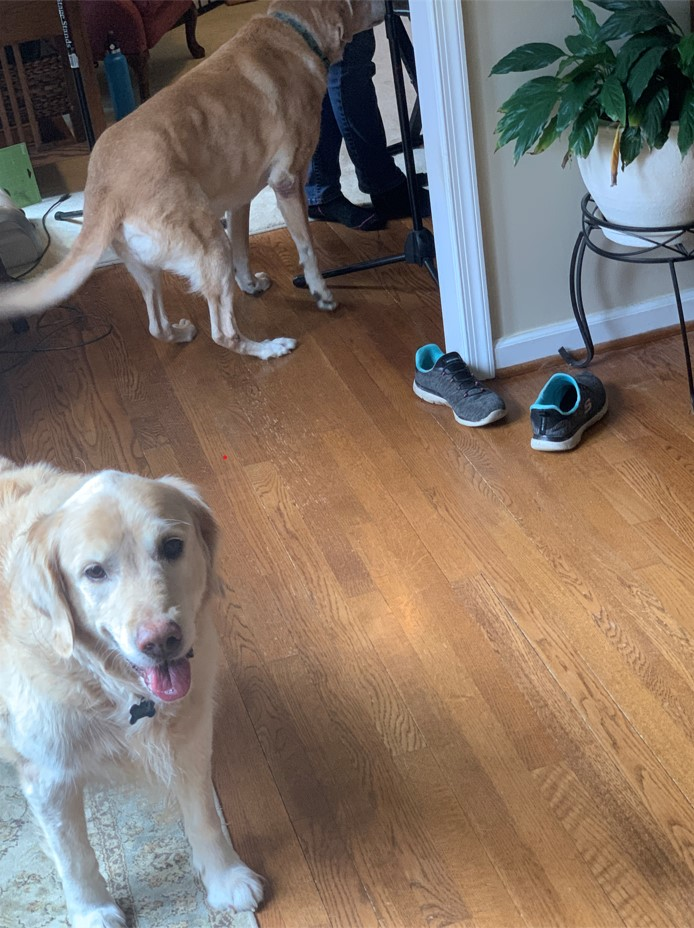bella: (23, 469, 222, 705)
